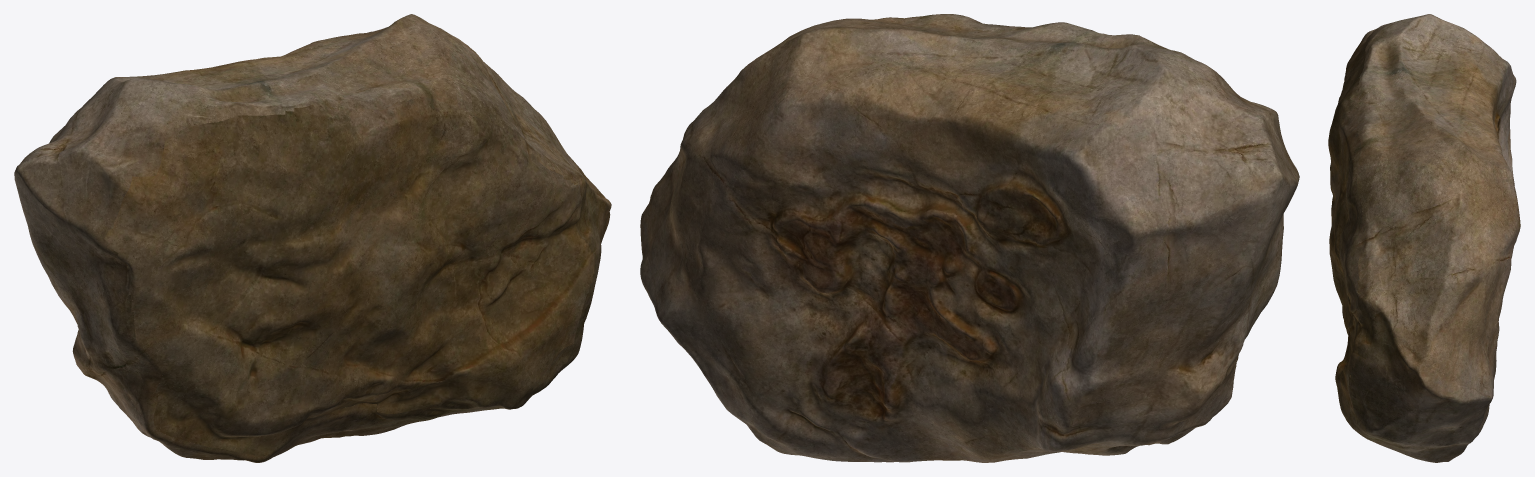
File: rock.glb
The picture shows the model from 3 angles, left to right: view 1: azimuth 30°, elevation 25°; view 2: azimuth 150°, elevation 25°; view 3: azimuth 270°, elevation 25°; orthographic projection. The views are drawn at different scales.
Visible parts, largest first — view 1: rockHero_low; view 2: rockHero_low; view 3: rockHero_low.
Part boxes in pixels (x1=…): rockHero_low: x1=14, y1=14, x2=611, y2=462; rockHero_low: x1=640, y1=14, x2=1299, y2=462; rockHero_low: x1=1328, y1=14, x2=1520, y2=462.
Size of the model in its own units: 3.51 by 2.41 by 1.3.
2 materials, 2 textured.
